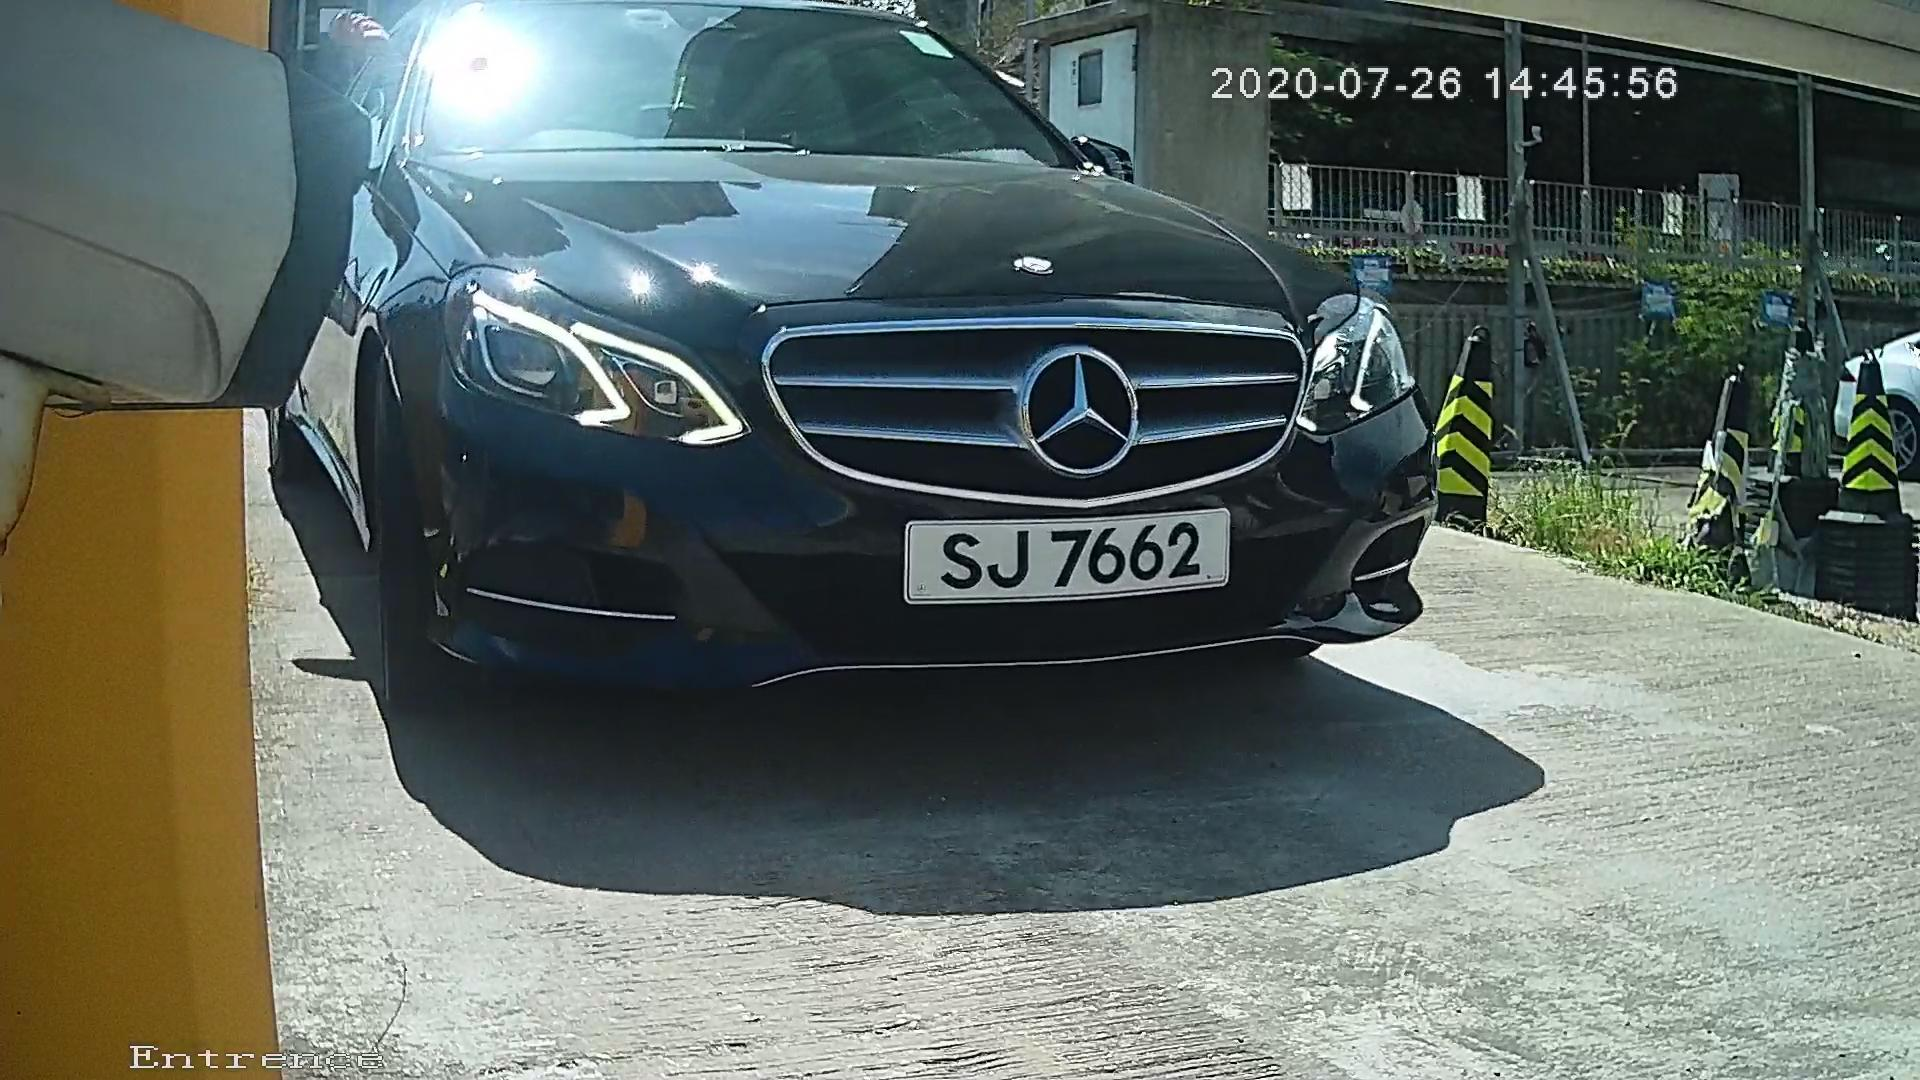privatecar: (241, 29, 1518, 800)
